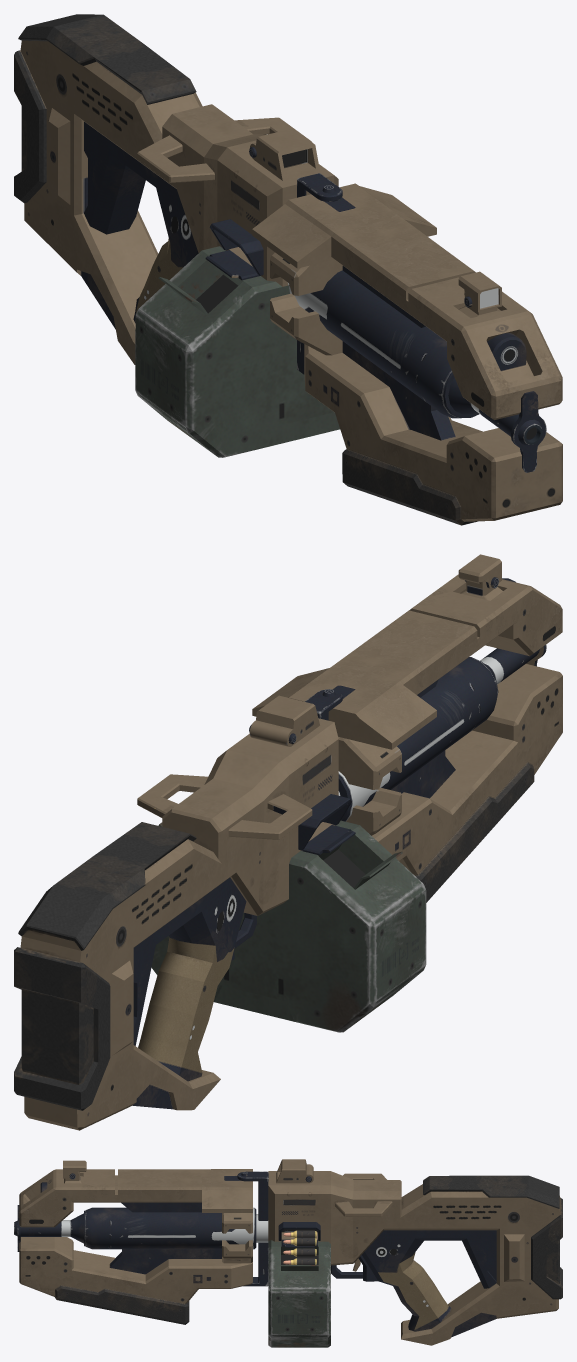
Rendered from heavy_assault_rifle.glb.
The picture shows the model from 3 angles, top to bottom: view 1: azimuth 30°, elevation 25°; view 2: azimuth 150°, elevation 25°; view 3: azimuth 270°, elevation 25°; orthographic projection. The views are drawn at different scales.
Visible parts, largest first — view 1: Object_2; view 2: Object_2; view 3: Object_2.
Boxes of the visible parts, <box> form: Object_2: <box>14,14,562,525</box>; Object_2: <box>14,554,562,1130</box>; Object_2: <box>14,1159,562,1347</box>.
Bounding box in the file's own units: 0.1902 × 0.2325 × 0.6646.
Materials: 1 (1 with a texture image).
